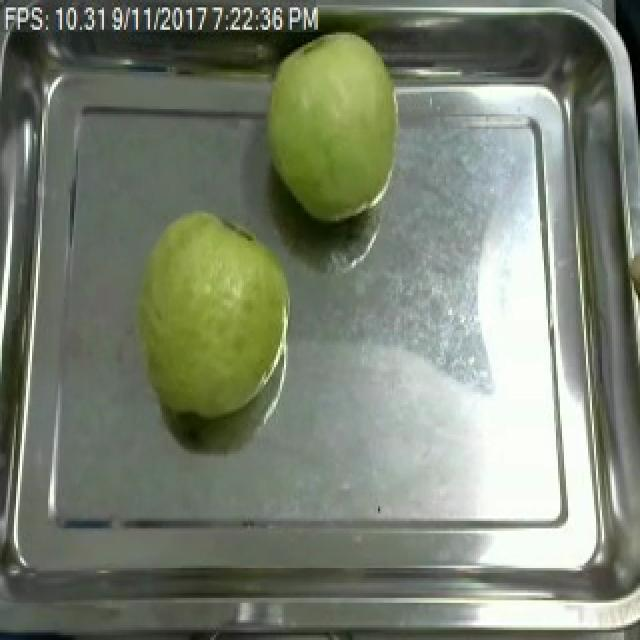Fruit: (124, 206, 298, 429), (256, 20, 408, 231)
